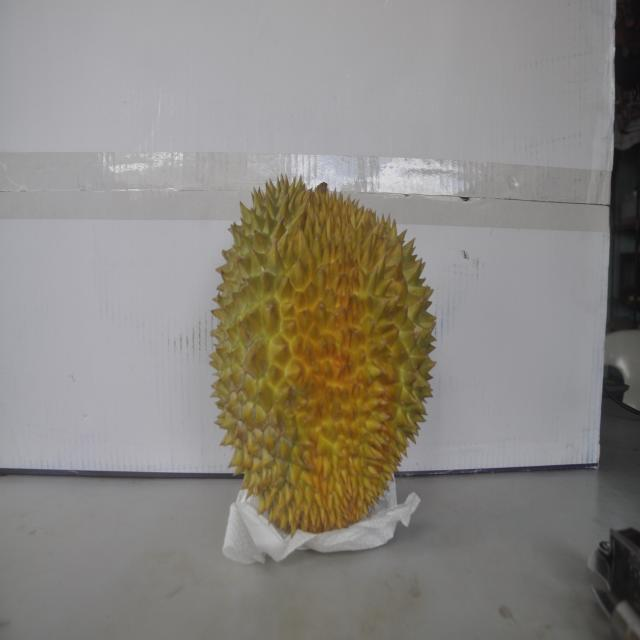mature: (206, 170, 432, 537)
